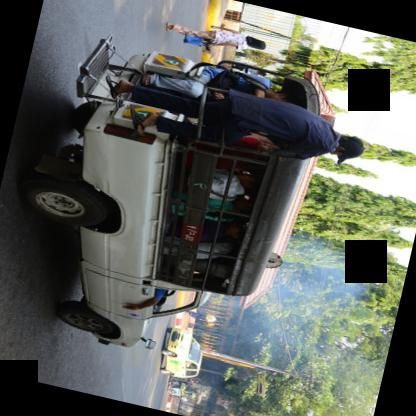handbag: (203, 70, 269, 92), (181, 34, 208, 47), (210, 189, 235, 200)
